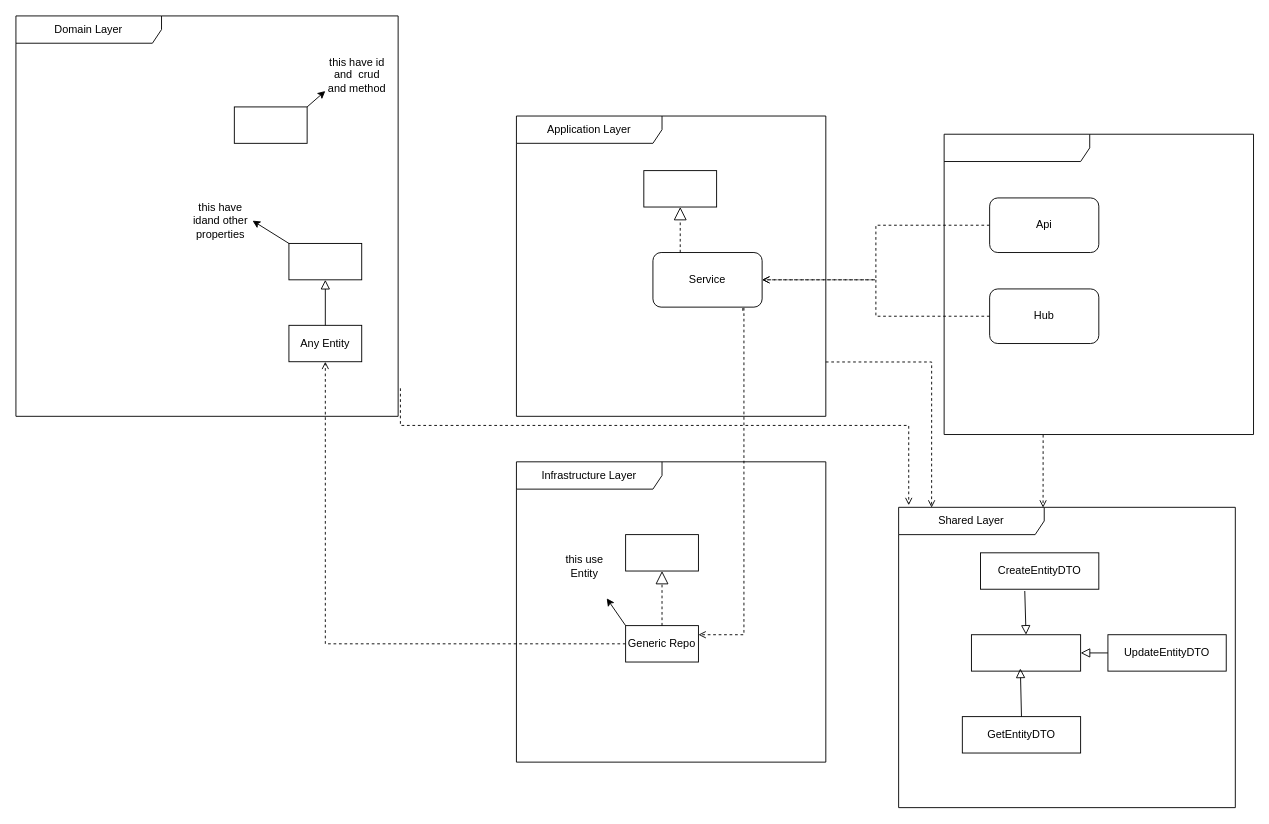
The diagram is 1269 pixels wide and 824 high, and some of its shapes have lost their labels. Each missing label, with the box of its shape:
API Layer: (943, 133, 1254, 435)
Domain Service: (233, 106, 307, 143)
Entity: (288, 243, 362, 280)
EntityBaseDTO: (971, 634, 1081, 671)
IRepo: (625, 534, 698, 571)
IService: (643, 170, 717, 207)
